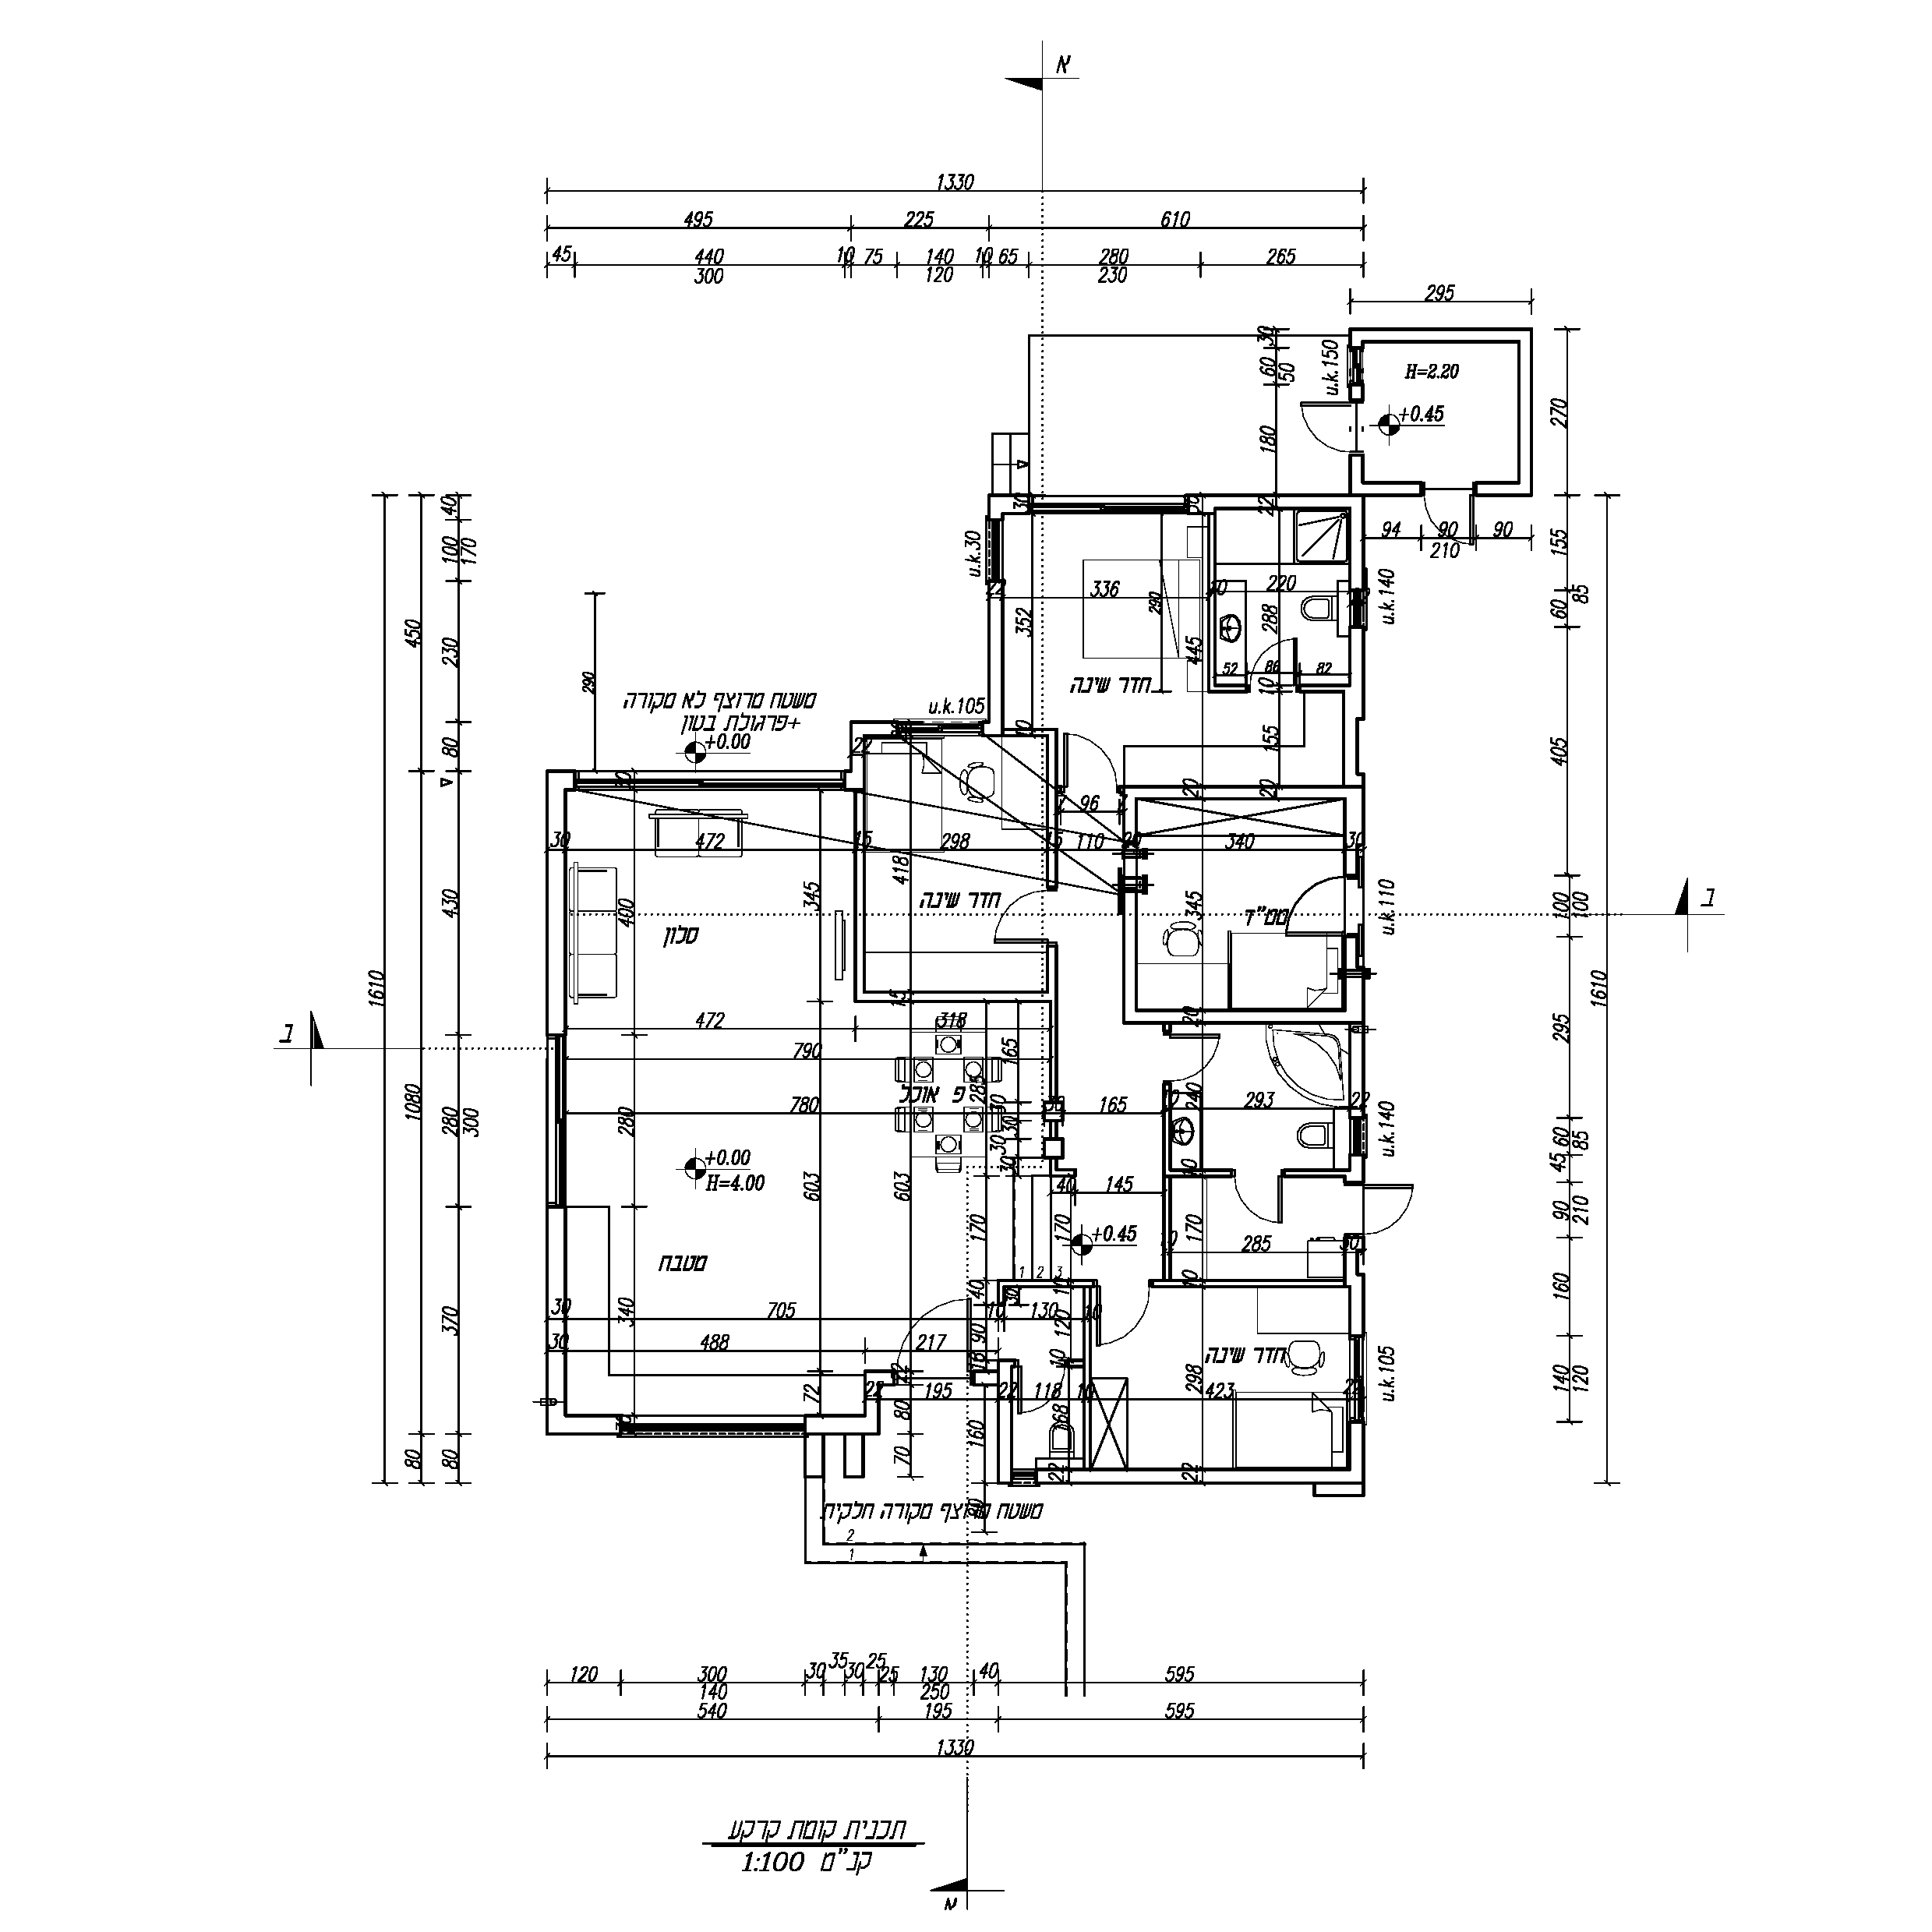door: (1369, 1178, 1424, 1246), (1286, 872, 1341, 939), (1060, 720, 1122, 778), (1095, 1297, 1155, 1353), (1231, 1178, 1290, 1233), (1230, 1177, 1288, 1231), (993, 885, 1046, 945), (1173, 1030, 1226, 1079)
wall: (616, 1422, 803, 1426)
